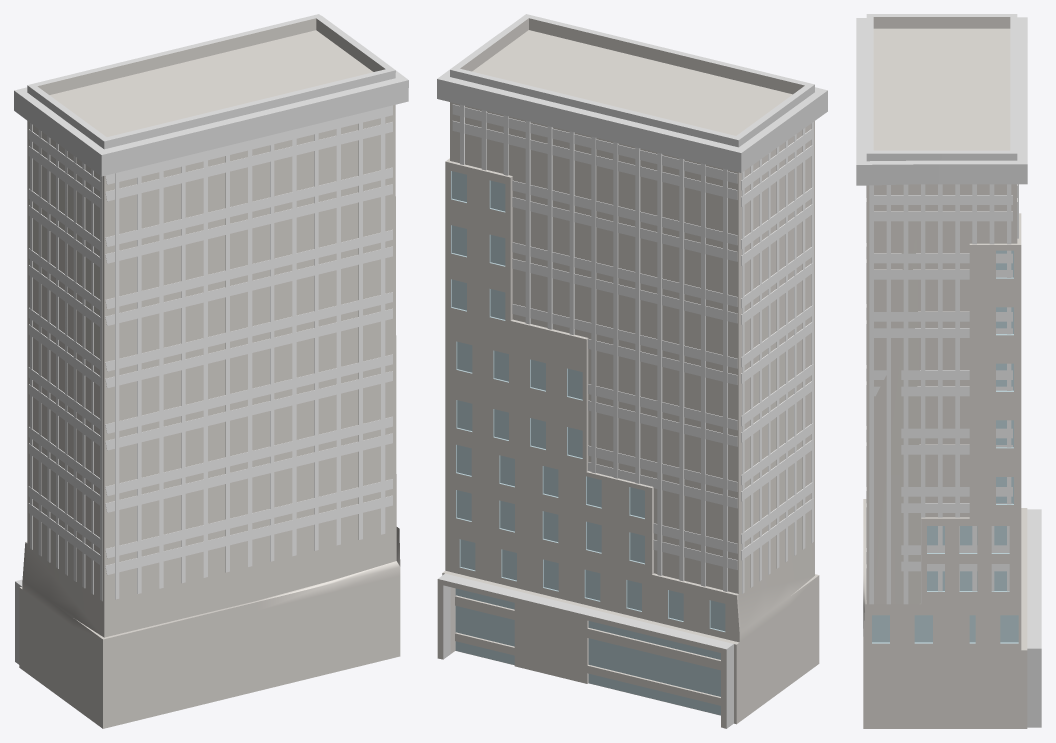
File: building_house_3.glb
The picture shows the model from 3 angles, left to right: view 1: azimuth 30°, elevation 25°; view 2: azimuth 150°, elevation 25°; view 3: azimuth 270°, elevation 25°; orthographic projection.
Visible parts, largest first — view 1: Building; view 2: Building; view 3: Building.
Part boxes in pixels (<box>): Building: <box>14,14,408,728</box>; Building: <box>437,14,827,728</box>; Building: <box>856,14,1041,728</box>.
Size of the model in its own units: 19.87 by 36.18 by 10.59.
